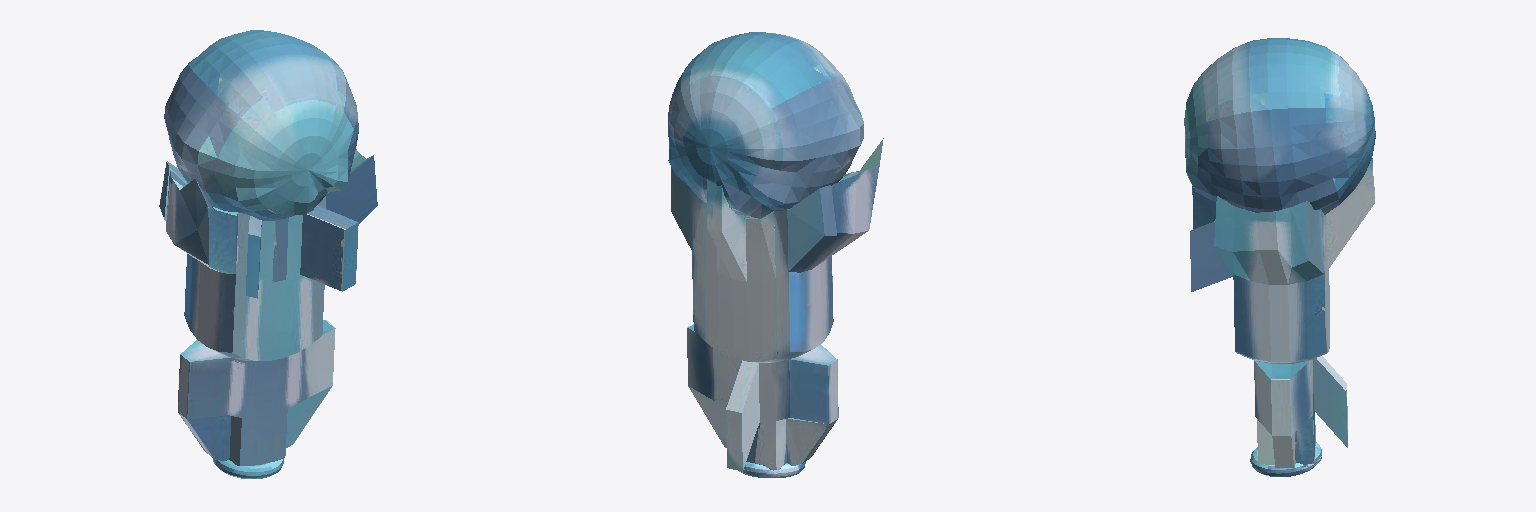
3 renders of one model, left to right at view 1: azimuth 30°, elevation 25°; view 2: azimuth 150°, elevation 25°; view 3: azimuth 270°, elevation 25°, orthographic.
Bounding box in the file's own units: 3.52 × 7.61 × 3.11.
1 materials, 1 textured.